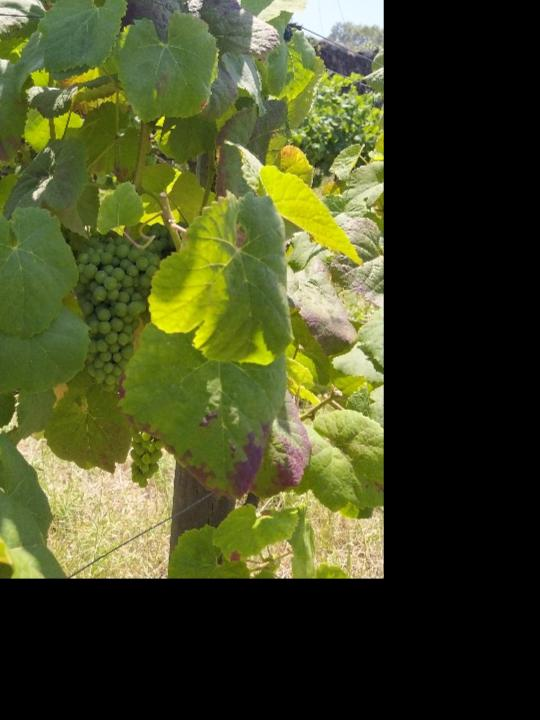grape: (69, 232, 164, 394)
